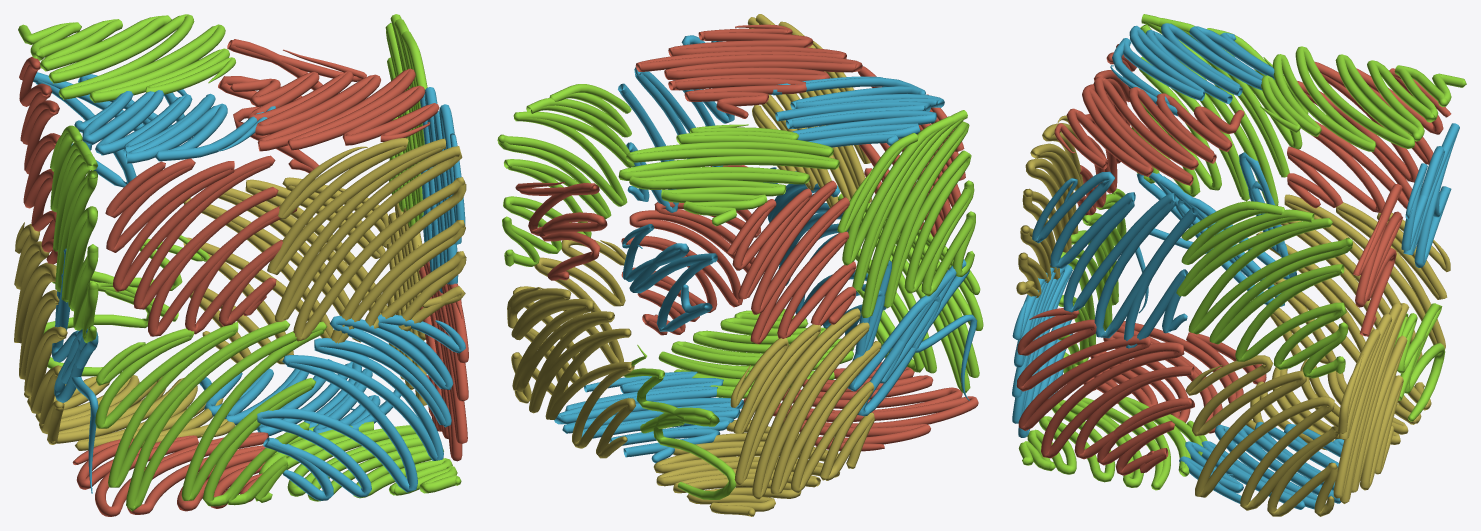
The picture shows the model from 3 angles, left to right: view 1: azimuth 30°, elevation 25°; view 2: azimuth 150°, elevation 25°; view 3: azimuth 270°, elevation 25°; orthographic projection. The views are drawn at different scales.
Visible parts, largest first — view 1: Untitled_19_Wire_geo; view 2: Untitled_19_Wire_geo; view 3: Untitled_19_Wire_geo.
Boxes of the visible parts, x1,y1,x2,y2 form: Untitled_19_Wire_geo: (14,14,468,516); Untitled_19_Wire_geo: (497,14,983,516); Untitled_19_Wire_geo: (1012,14,1466,516).
Size of the model in its own units: 0.263 by 0.2225 by 0.2687.
